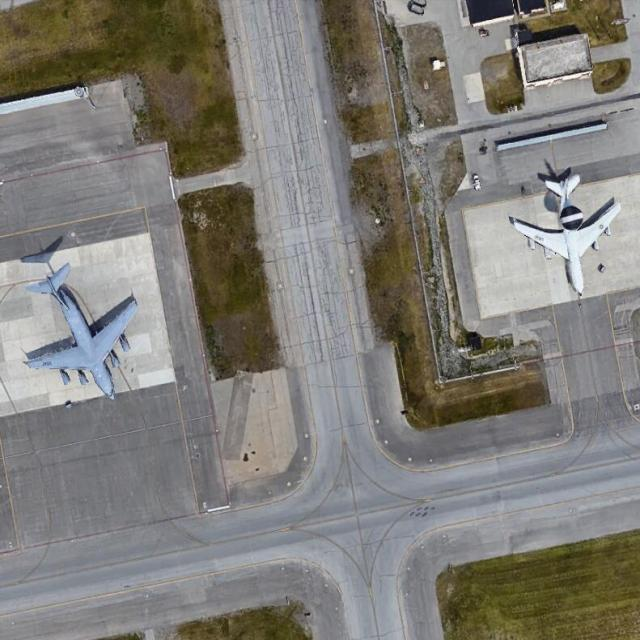fighter jet: (10, 269, 138, 408), (504, 170, 627, 299)
